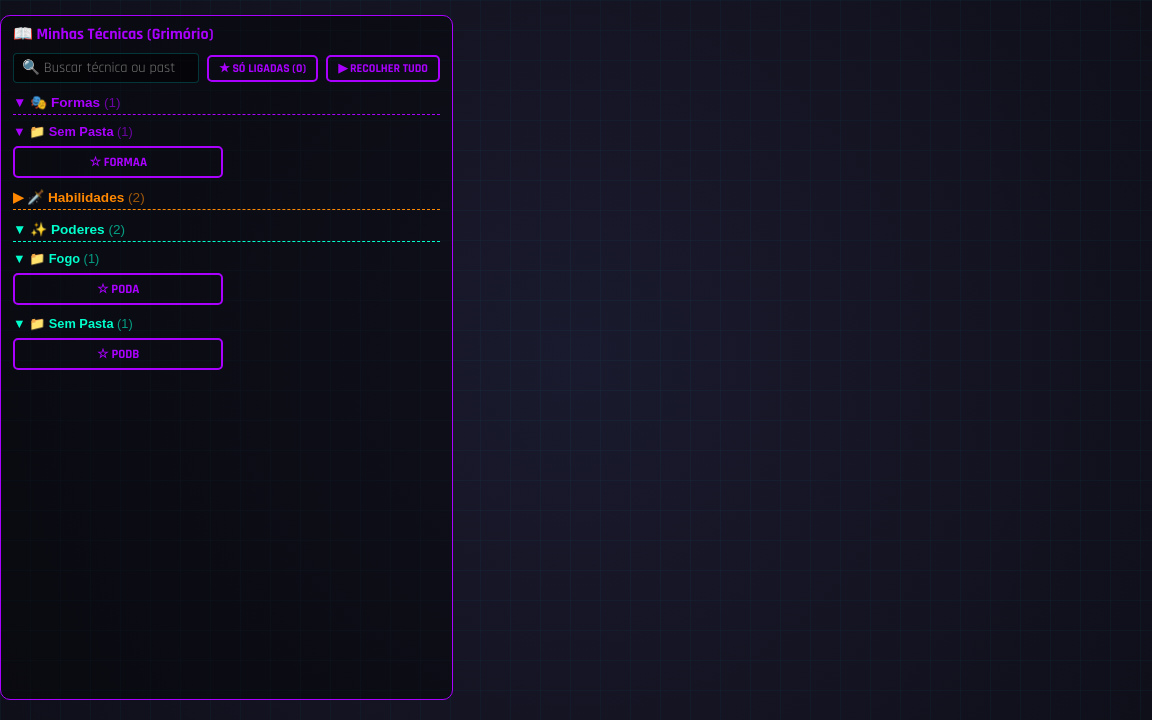
Test: categoria recolhivel: busca e "Só ligadas" › ao limpar a busca a categoria volta a ficar recolhida
This screenshot has width=1152, height=720.
Type "haba" into the search field labelled "Buscar técnica".
click(106, 68); type("haba")  # box [13,53,199,83]
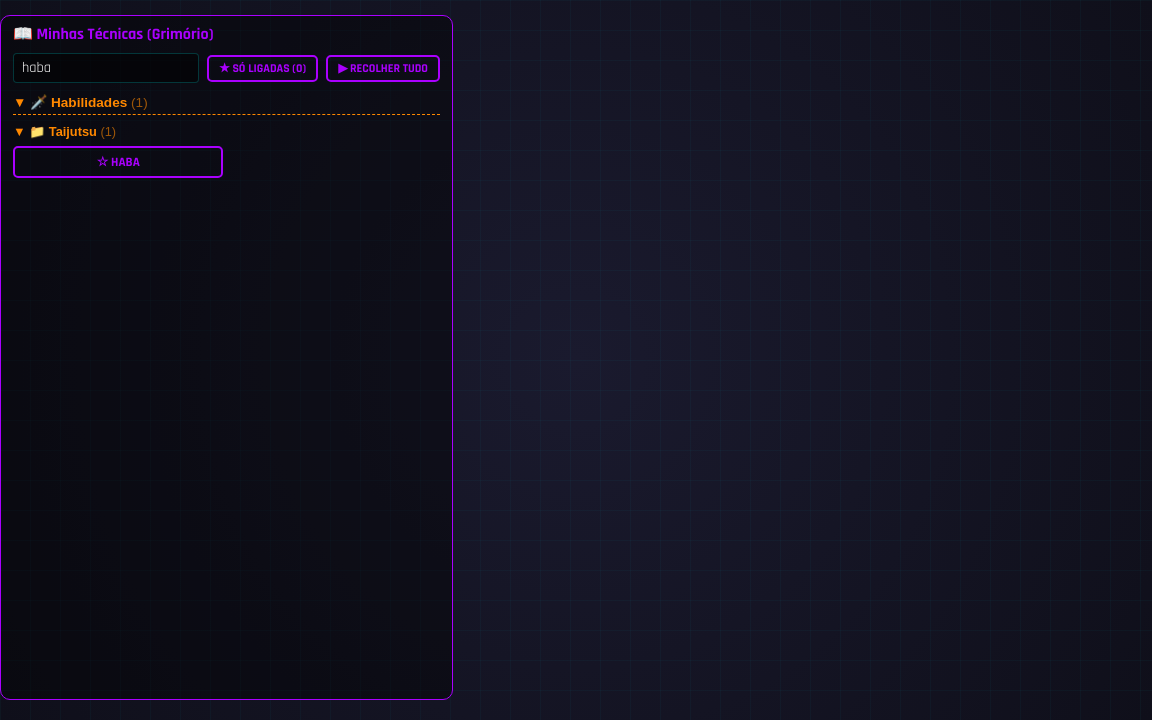
Clear the search field named "Buscar técnica" at [106, 68], box [13,53,199,83]
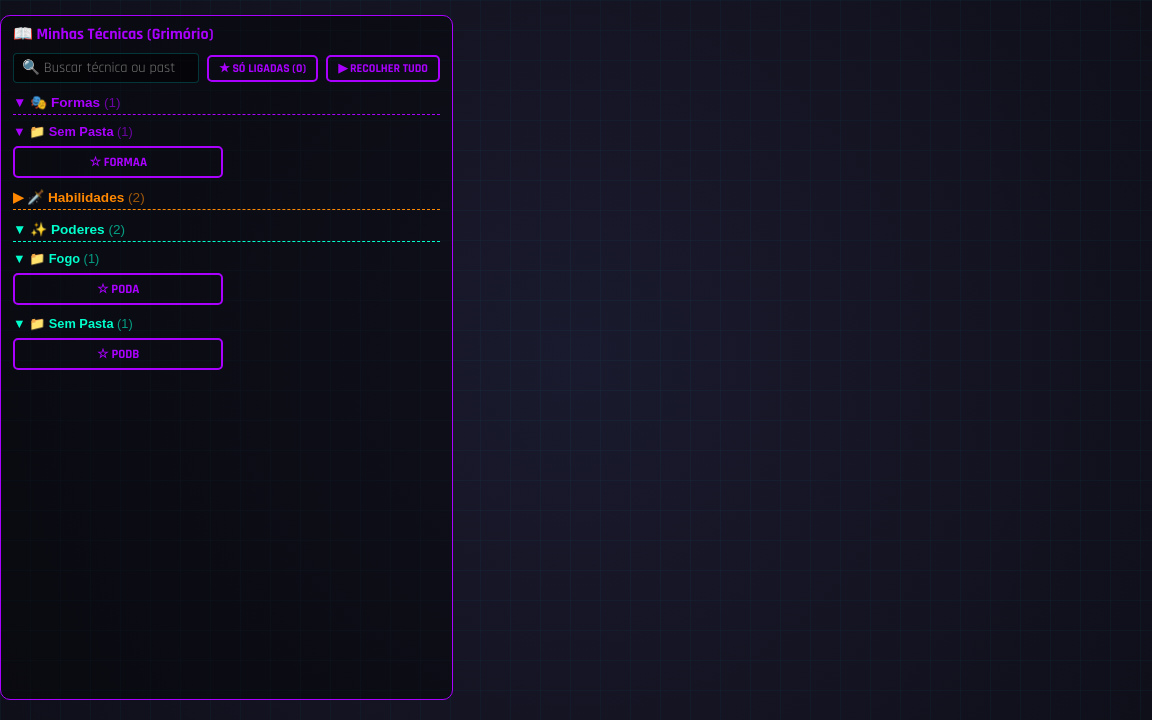
Expected: the button with class "mapa-tecnicas-categoria" is collapsed, [13,188,440,210]
